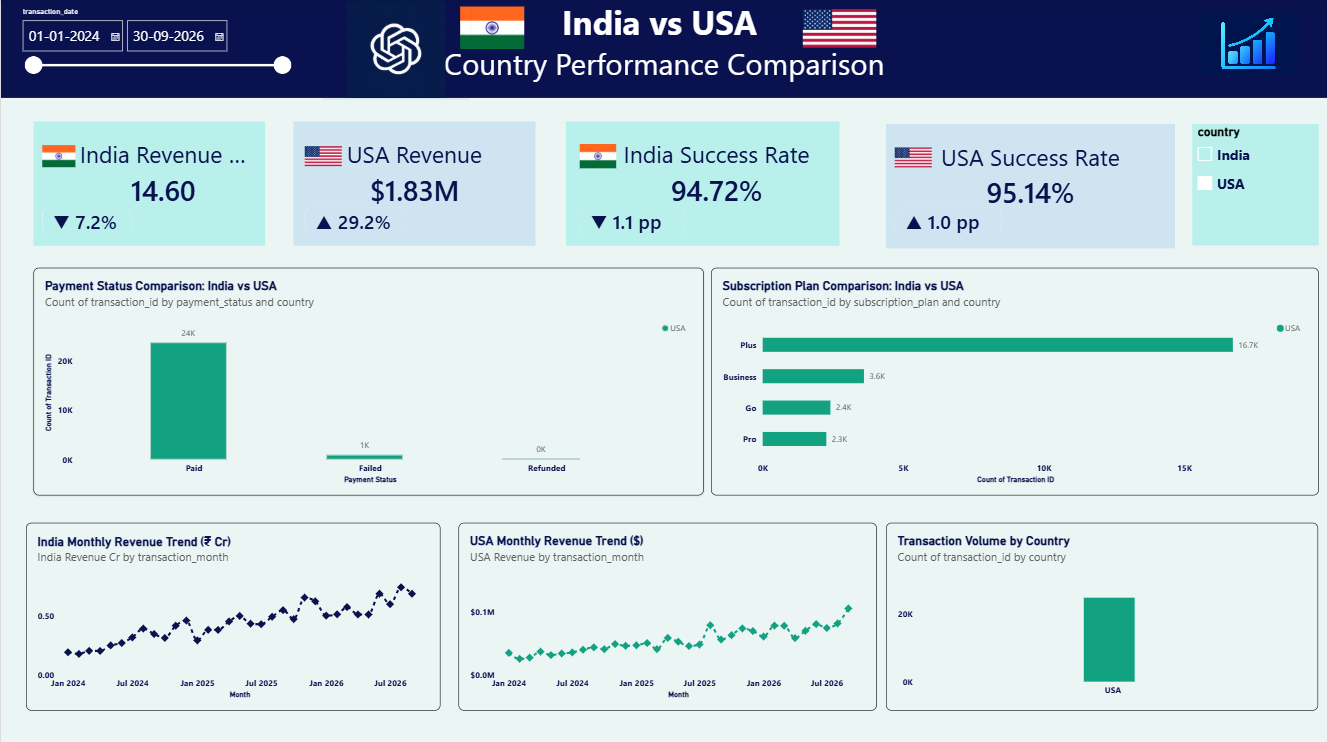

This screenshot's page, from the dashboard's own definition file:
{"tool":"powerbi","page":{"name":"India vs USA","canvas":[1920,1080],"ordinal":1},"visuals":[{"type":"textbox","box":[0,0,1920.1,143],"z":0},{"type":"cardVisual","fields":{"Data":["combined_sales_50000.India Revenue Cr"]},"box":[46.3,177.8,335.2,179.6],"z":1000},{"type":"cardVisual","fields":{"Data":["combined_sales_50000.India Success Rate"]},"box":[818.5,177.8,396.3,179.6],"z":2000},{"type":"cardVisual","fields":{"Data":["combined_sales_50000.USA Success Rate"]},"box":[1281.5,181.5,418.5,179.6],"z":3000},{"type":"clusteredColumnChart","title":"Payment Status Comparison: India vs USA","fields":{"Category":["combined_sales_50000.payment_status"],"Series":["combined_sales_50000.country"],"Y":["CountNonNull(combined_sales_50000.transaction_id)"]},"box":[46.3,388.9,970.4,329.6],"z":4000},{"type":"clusteredBarChart","title":"Subscription Plan Comparison: India vs USA","fields":{"Category":["combined_sales_50000.subscription_plan"],"Series":["combined_sales_50000.country"],"Y":["CountNonNull(combined_sales_50000.transaction_id)"]},"box":[1027.8,388.9,879.6,329.6],"z":5000},{"type":"lineChart","title":"India Monthly Revenue Trend (₹ Cr)","fields":{"Category":["combined_sales_50000.transaction_month"],"Y":["combined_sales_50000.India Revenue Cr"]},"box":[37,757.4,600,272.2],"z":6000},{"type":"lineChart","title":"USA Monthly Revenue Trend ($)","fields":{"Category":["combined_sales_50000.transaction_month"],"Y":["combined_sales_50000.USA Revenue"]},"box":[663,757.4,605.6,272.2],"z":7000},{"type":"slicer","fields":{"Values":["combined_sales_50000.country"]},"box":[1724.1,181.5,183.3,175.9],"z":8000},{"type":"clusteredColumnChart","title":"Transaction Volume by Country","fields":{"Category":["combined_sales_50000.country"],"Y":["CountNonNull(combined_sales_50000.transaction_id)"]},"box":[1281.5,757.4,625.9,272.2],"z":9000},{"type":"image","box":[1160,14.5,108.6,56.1],"z":10000},{"type":"image","box":[662.3,10.9,97.7,61.5],"z":11000},{"type":"image","box":[59.3,209.3,48.1,35.2],"z":12000},{"type":"image","box":[831.5,209.3,66.7,35.2],"z":13000},{"type":"image","box":[1294.4,211.1,53.7,35.2],"z":14000},{"type":"cardVisual","fields":{"Data":["combined_sales_50000.USA Revenue"]},"box":[424.1,177.8,350,179.6],"z":15000},{"type":"image","box":[438.9,209.3,53.7,35.2],"z":16000},{"type":"cardVisual","fields":{"Data":["combined_sales_50000.India Revenue Growth Indicator"]},"box":[59.3,301.9,129.6,38.9],"z":17000},{"type":"cardVisual","fields":{"Data":["combined_sales_50000.USA Revenue Growth Indicator"]},"box":[438.9,301.9,148.1,38.9],"z":18000},{"type":"cardVisual","fields":{"Data":["combined_sales_50000.USA Success Rate Growth Indicator"]},"box":[1294.4,301.9,155.6,38.9],"z":19000},{"type":"cardVisual","fields":{"Data":["combined_sales_50000.India Success Rate Growth Indicator"]},"box":[837,301.9,153.7,38.9],"z":20000},{"type":"image","box":[1735.5,19.9,141.2,90.5],"z":20001},{"type":"image","box":[465.1,0,213.5,143],"z":20002},{"type":"slicer","fields":{"Values":["combined_sales_50000.transaction_date"]},"box":[23.5,10.9,399.9,117.6],"z":20003}]}

Visuals, with their boxes in screenshot pixels (x1, y1, x2, y2), scaled from the page's 1920x1080 canvas onto the 1327x742 screenshot:
textbox: box(0, 0, 1326, 98)
cardVisual - combined_sales_50000.India Revenue Cr: box(32, 122, 264, 246)
cardVisual - combined_sales_50000.India Success Rate: box(566, 122, 840, 246)
cardVisual - combined_sales_50000.USA Success Rate: box(886, 125, 1175, 248)
"Payment Status Comparison: India vs USA" clusteredColumnChart: box(32, 267, 703, 494)
"Subscription Plan Comparison: India vs USA" clusteredBarChart: box(710, 267, 1318, 494)
"India Monthly Revenue Trend (₹ Cr)" lineChart: box(26, 520, 440, 707)
"USA Monthly Revenue Trend ($)" lineChart: box(458, 520, 877, 707)
slicer - combined_sales_50000.country: box(1192, 125, 1318, 246)
"Transaction Volume by Country" clusteredColumnChart: box(886, 520, 1318, 707)
image: box(802, 10, 877, 49)
image: box(458, 7, 525, 50)
image: box(41, 144, 74, 168)
image: box(575, 144, 621, 168)
image: box(895, 145, 932, 169)
cardVisual - combined_sales_50000.USA Revenue: box(293, 122, 535, 246)
image: box(303, 144, 340, 168)
cardVisual - combined_sales_50000.India Revenue Growth Indicator: box(41, 207, 131, 234)
cardVisual - combined_sales_50000.USA Revenue Growth Indicator: box(303, 207, 406, 234)
cardVisual - combined_sales_50000.USA Success Rate Growth Indicator: box(895, 207, 1002, 234)
cardVisual - combined_sales_50000.India Success Rate Growth Indicator: box(578, 207, 685, 234)
image: box(1199, 14, 1297, 76)
image: box(321, 0, 469, 98)
slicer - combined_sales_50000.transaction_date: box(16, 7, 293, 88)
